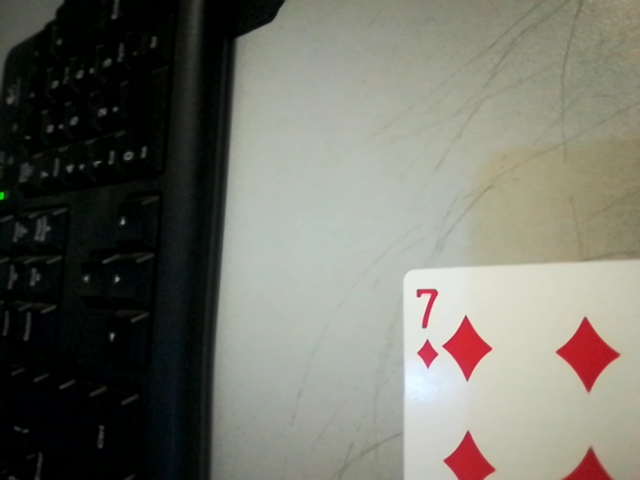fk 7: (405, 274, 450, 376)
